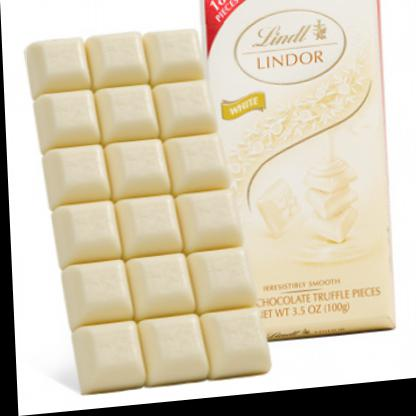chocolate: (25, 25, 268, 398)
